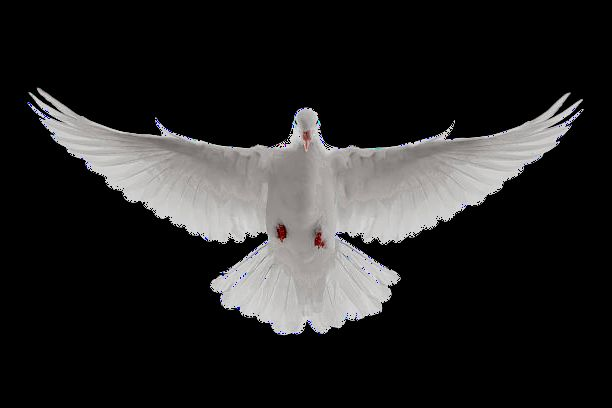Bird: (24, 83, 586, 336)
